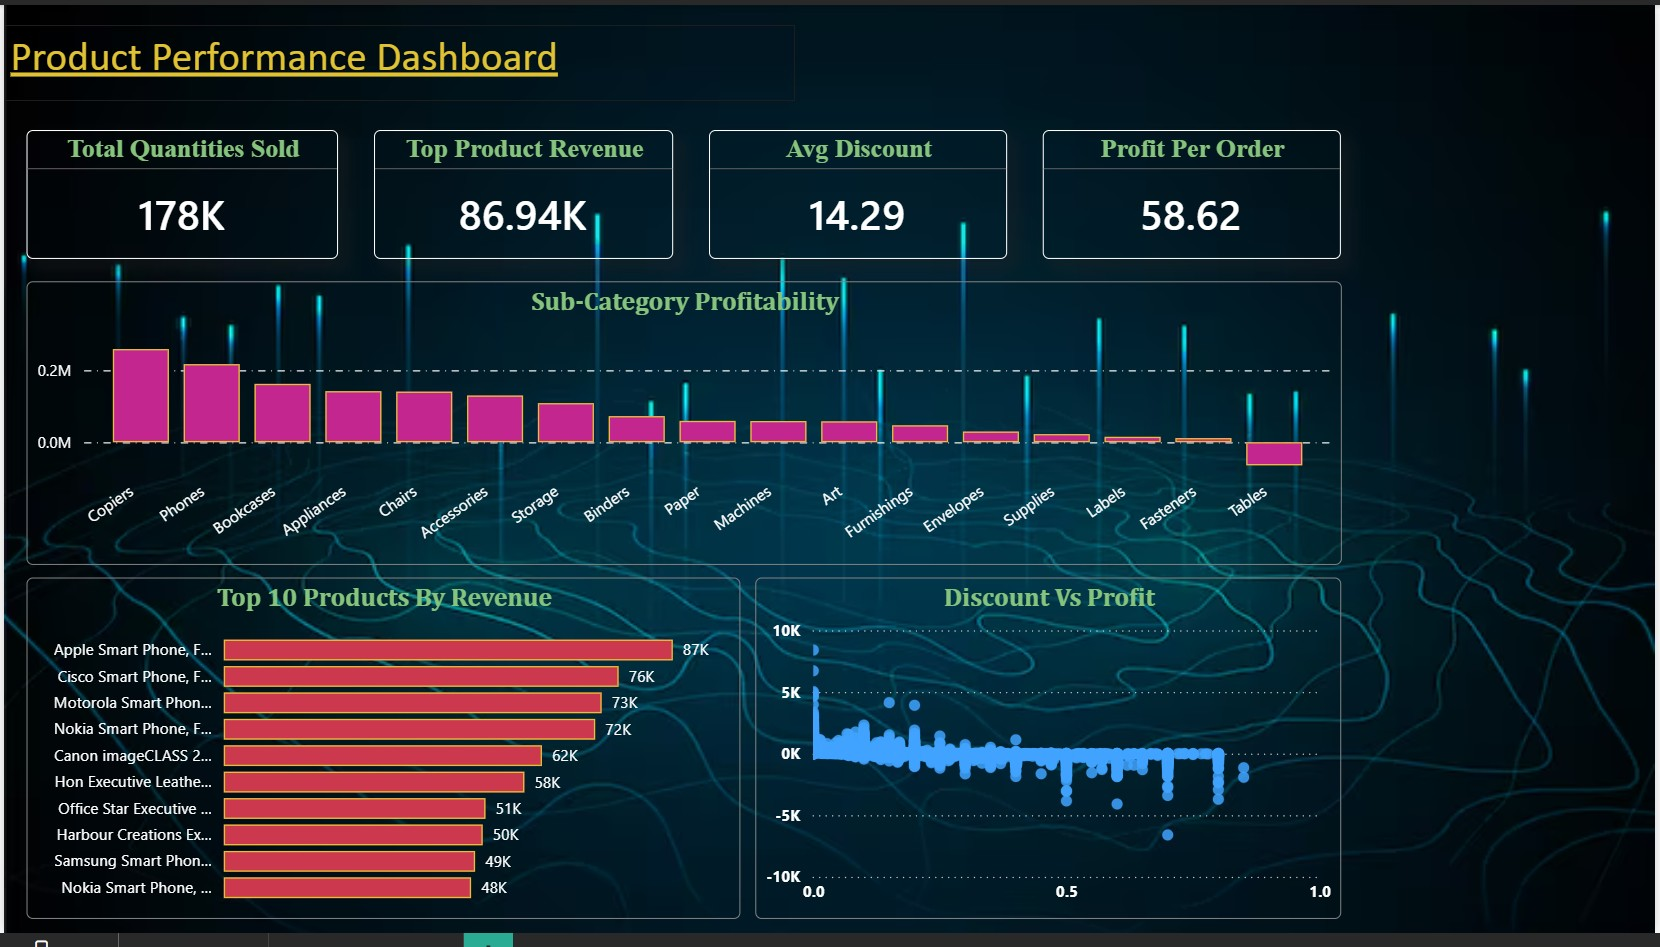

This screenshot's page, from the dashboard's own definition file:
{"tool":"powerbi","page":{"name":"Product Performance","canvas":[1280,720],"ordinal":1},"visuals":[{"type":"textbox","box":[0,15.8,613.7,59.1],"z":0},{"type":"cardVisual","title":"Total Quantities Sold","fields":{"Data":["Sum(Global_Superstore.Quantity)"]},"box":[17.9,97,241.5,100.2],"z":1000},{"type":"cardVisual","title":"Top Product Revenue","fields":{"Data":["Global_Superstore.Top Product Revenue"]},"box":[287.2,97,232,100.2],"z":1001},{"type":"cardVisual","title":"Avg Discount","fields":{"Data":["Avg(Global_Superstore.Discount Percentage)"]},"box":[546.9,97,230.9,100.2],"z":1002},{"type":"cardVisual","title":"Profit Per Order","fields":{"Data":["Global_Superstore.Profit Per Order"]},"box":[805.6,97,230.9,100.2],"z":1003},{"type":"clusteredBarChart","title":"Top 10 Products By Revenue","fields":{"Category":["Global_Superstore.Product Name"],"Y":["Sum(Global_Superstore.Sales)"]},"box":[17.4,444.2,553.5,265.1],"z":1004},{"type":"columnChart","title":"Sub-Category Profitability","fields":{"Category":["Global_Superstore.Sub-Category"],"Y":["Sum(Global_Superstore.Profit)"]},"box":[17.4,214,1019.8,219.8],"z":1005},{"type":"scatterChart","title":"Discount Vs Profit","fields":{"X":["Avg(Global_Superstore.Discount)"],"Y":["Sum(Global_Superstore.Profit)"],"Category":["Global_Superstore.Sales"]},"box":[582.6,444.2,454.7,265.1],"z":1006}]}

Visuals, with their boxes in screenshot pixels (x1, y1, x2, y2), scaled from the page's 1280x720 canvas onto the 1660x947 screenshot:
textbox: (x1=0, y1=21, x2=796, y2=99)
"Total Quantities Sold" cardVisual: (x1=23, y1=128, x2=336, y2=259)
"Top Product Revenue" cardVisual: (x1=372, y1=128, x2=673, y2=259)
"Avg Discount" cardVisual: (x1=709, y1=128, x2=1009, y2=259)
"Profit Per Order" cardVisual: (x1=1045, y1=128, x2=1344, y2=259)
"Top 10 Products By Revenue" clusteredBarChart: (x1=23, y1=584, x2=740, y2=933)
"Sub-Category Profitability" columnChart: (x1=23, y1=281, x2=1345, y2=571)
"Discount Vs Profit" scatterChart: (x1=756, y1=584, x2=1345, y2=933)
